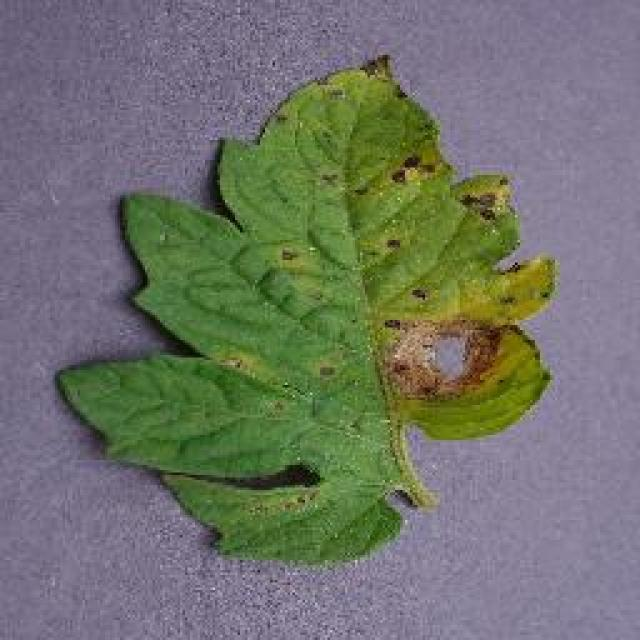Tomato___Septoria_leaf_spot: (58, 55, 552, 562)
